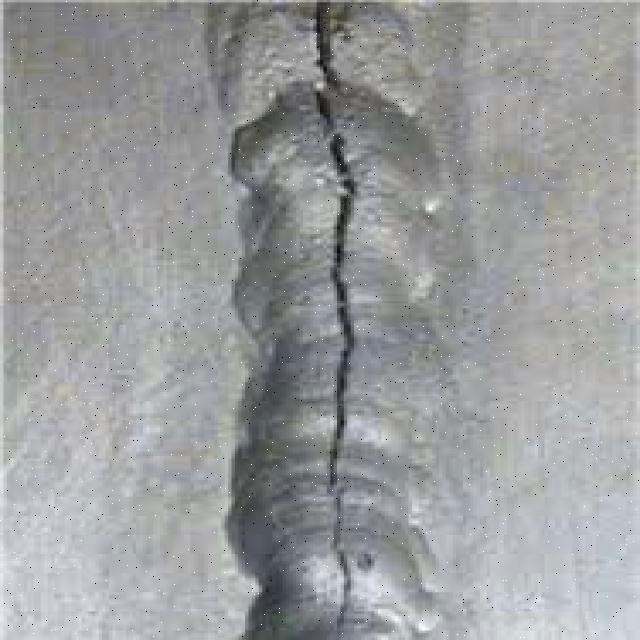Crack: (215, 10, 441, 639)
